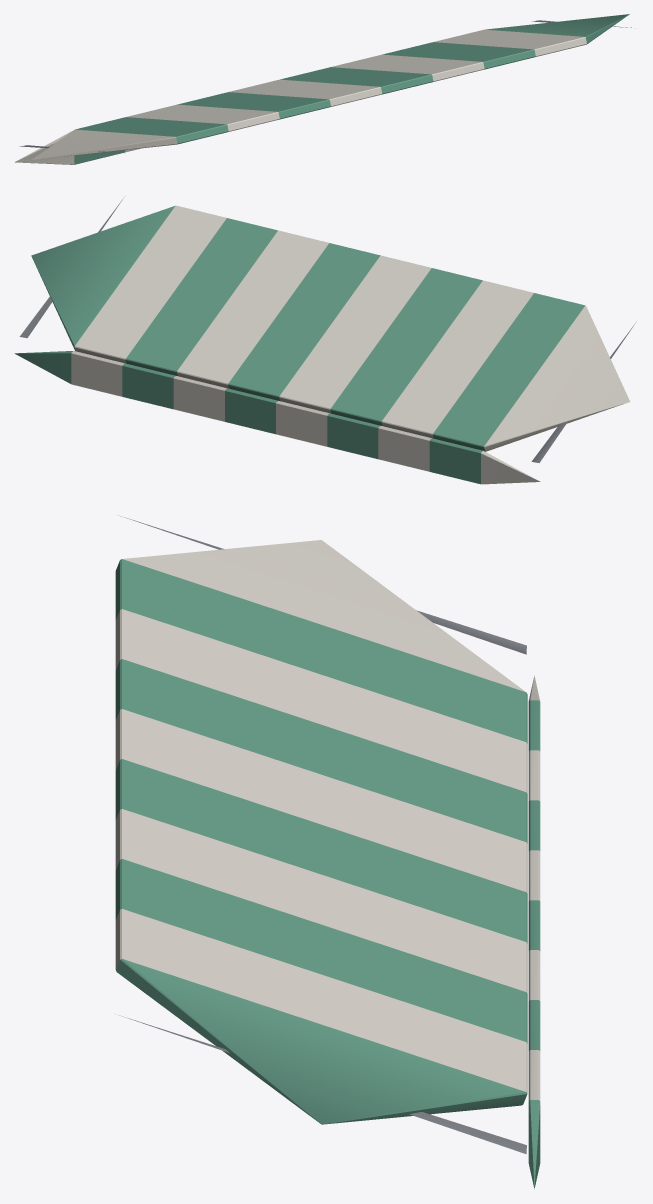
File: store_awning_low.glb
The picture shows the model from 3 angles, top to bottom: view 1: azimuth 30°, elevation 25°; view 2: azimuth 150°, elevation 25°; view 3: azimuth 270°, elevation 25°; orthographic projection. The views are drawn at different scales.
Size of the model in its own units: 3.51 by 0.5755 by 1.09.
